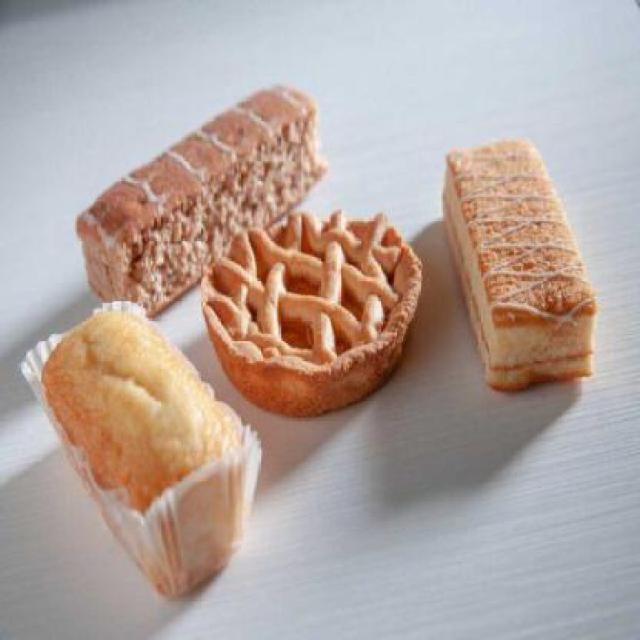Merendine packaged: (20, 296, 266, 602), (70, 77, 328, 326), (200, 208, 426, 424), (434, 133, 600, 396)
